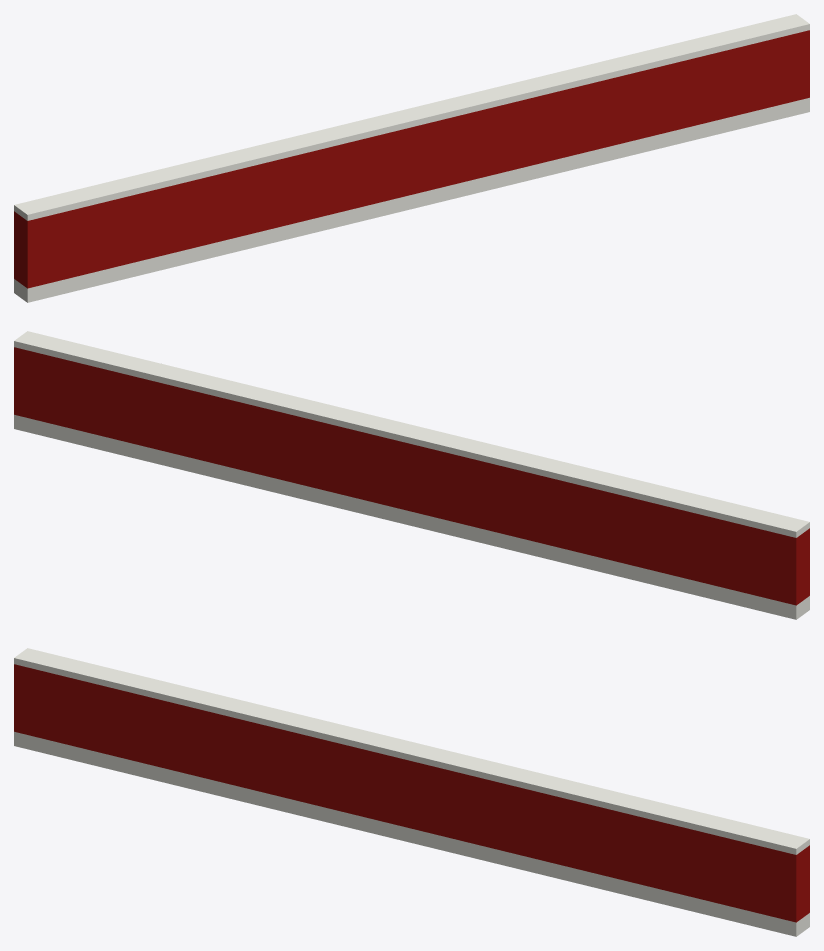
The model's file is MPS_Fascia_4m.fbx.
The picture shows the model from 3 angles, top to bottom: view 1: azimuth 30°, elevation 25°; view 2: azimuth 150°, elevation 25°; view 3: azimuth 330°, elevation 25°; orthographic projection.
Parts seen in each view (by area): view 1: Body; view 2: Body; view 3: Body.
Boxes of the visible parts, x1,y1,x2,y2 form: Body: (14, 14, 809, 302); Body: (14, 331, 809, 619); Body: (14, 648, 809, 936).
Bounding box in the file's own units: 4 × 0.43 × 0.12.
